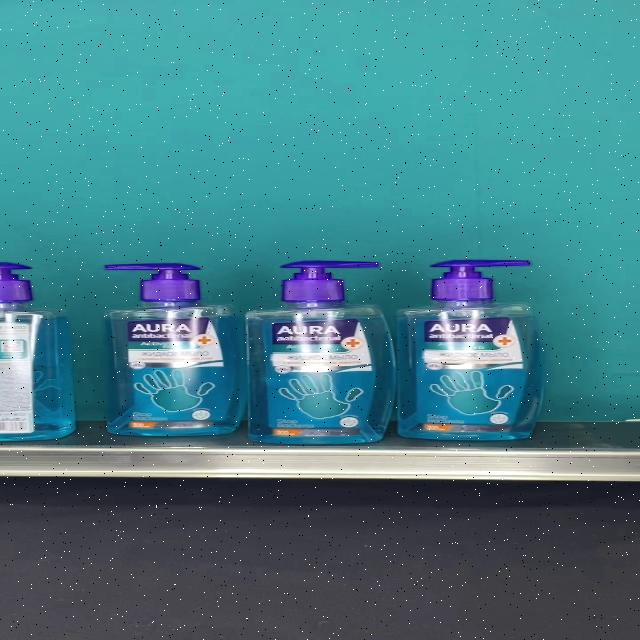Bottle: (246, 260, 396, 443), (396, 259, 546, 440), (105, 264, 249, 436)
Cap: (431, 259, 533, 303), (282, 260, 380, 302), (105, 263, 200, 301)
